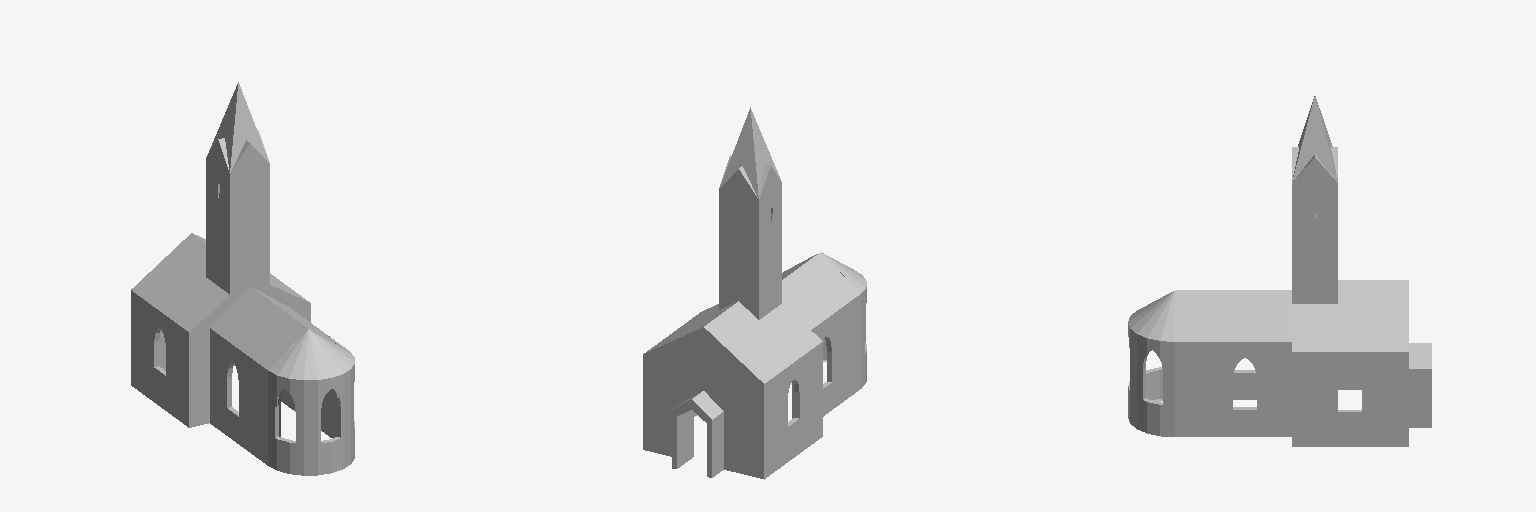
Rendered from Church-blender-obj.obj.
3 views of the same model, side by side, from view 1: azimuth 30°, elevation 25°; view 2: azimuth 150°, elevation 25°; view 3: azimuth 270°, elevation 25° (orthographic).
Parts seen in each view (by area): view 1: church_Mesh1.001; view 2: church_Mesh1.001; view 3: church_Mesh1.001.
Part boxes in pixels (left/top/right/bottom): church_Mesh1.001: left=131, top=82, right=354, bottom=475; church_Mesh1.001: left=643, top=107, right=866, bottom=479; church_Mesh1.001: left=1128, top=96, right=1431, bottom=446.
Bounding box in the file's own units: 12 × 30.5 × 26.